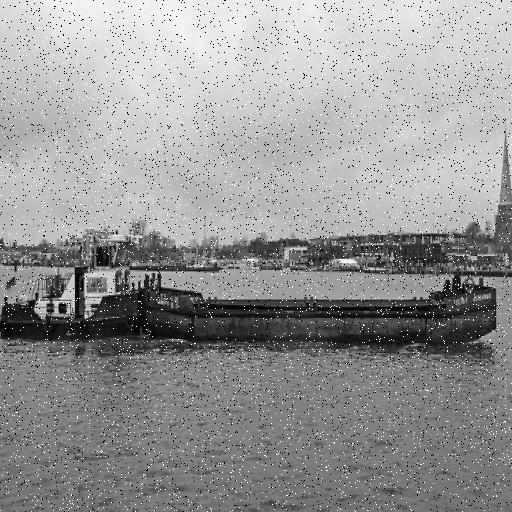tugboat: (1, 224, 166, 359)
